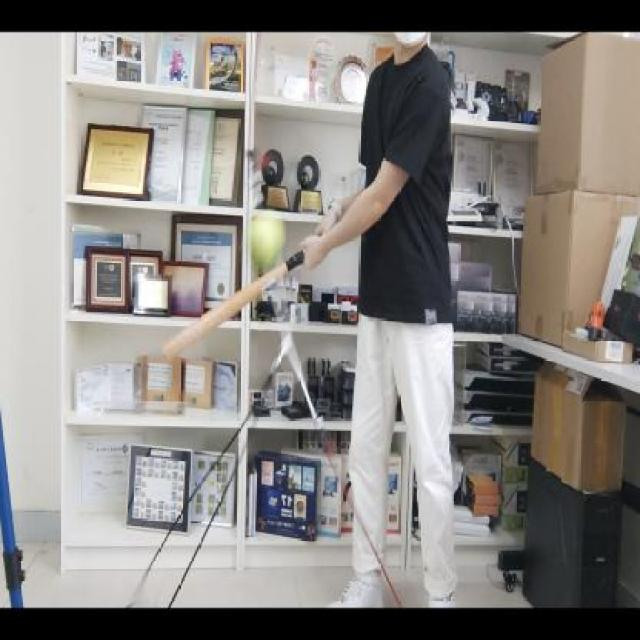baseball: (242, 200, 287, 275)
